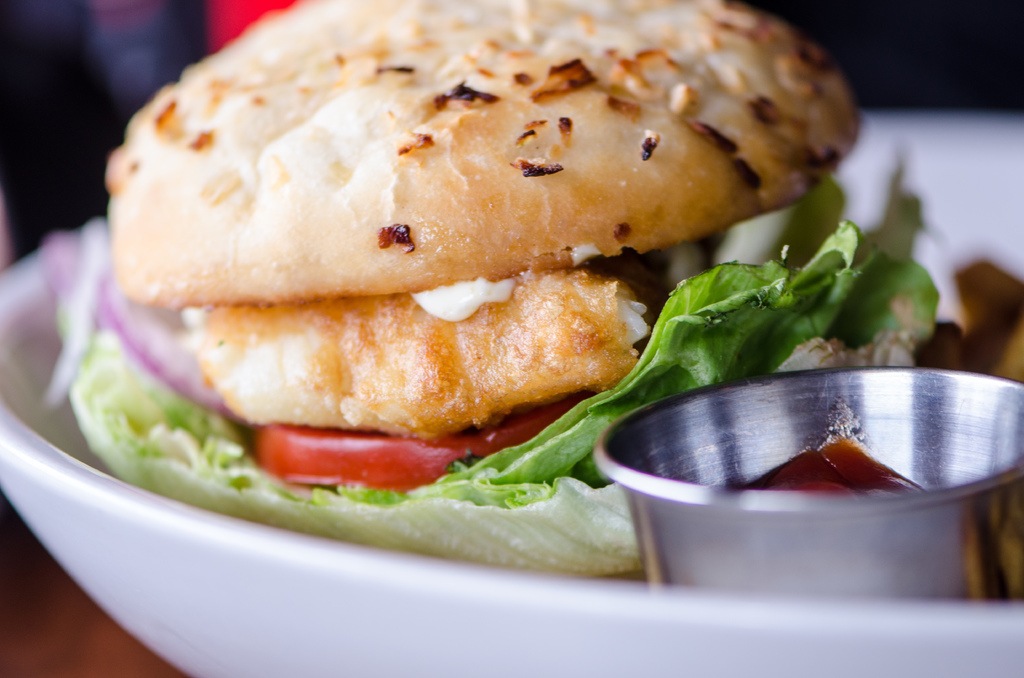Hamburger: (62, 0, 944, 580)
